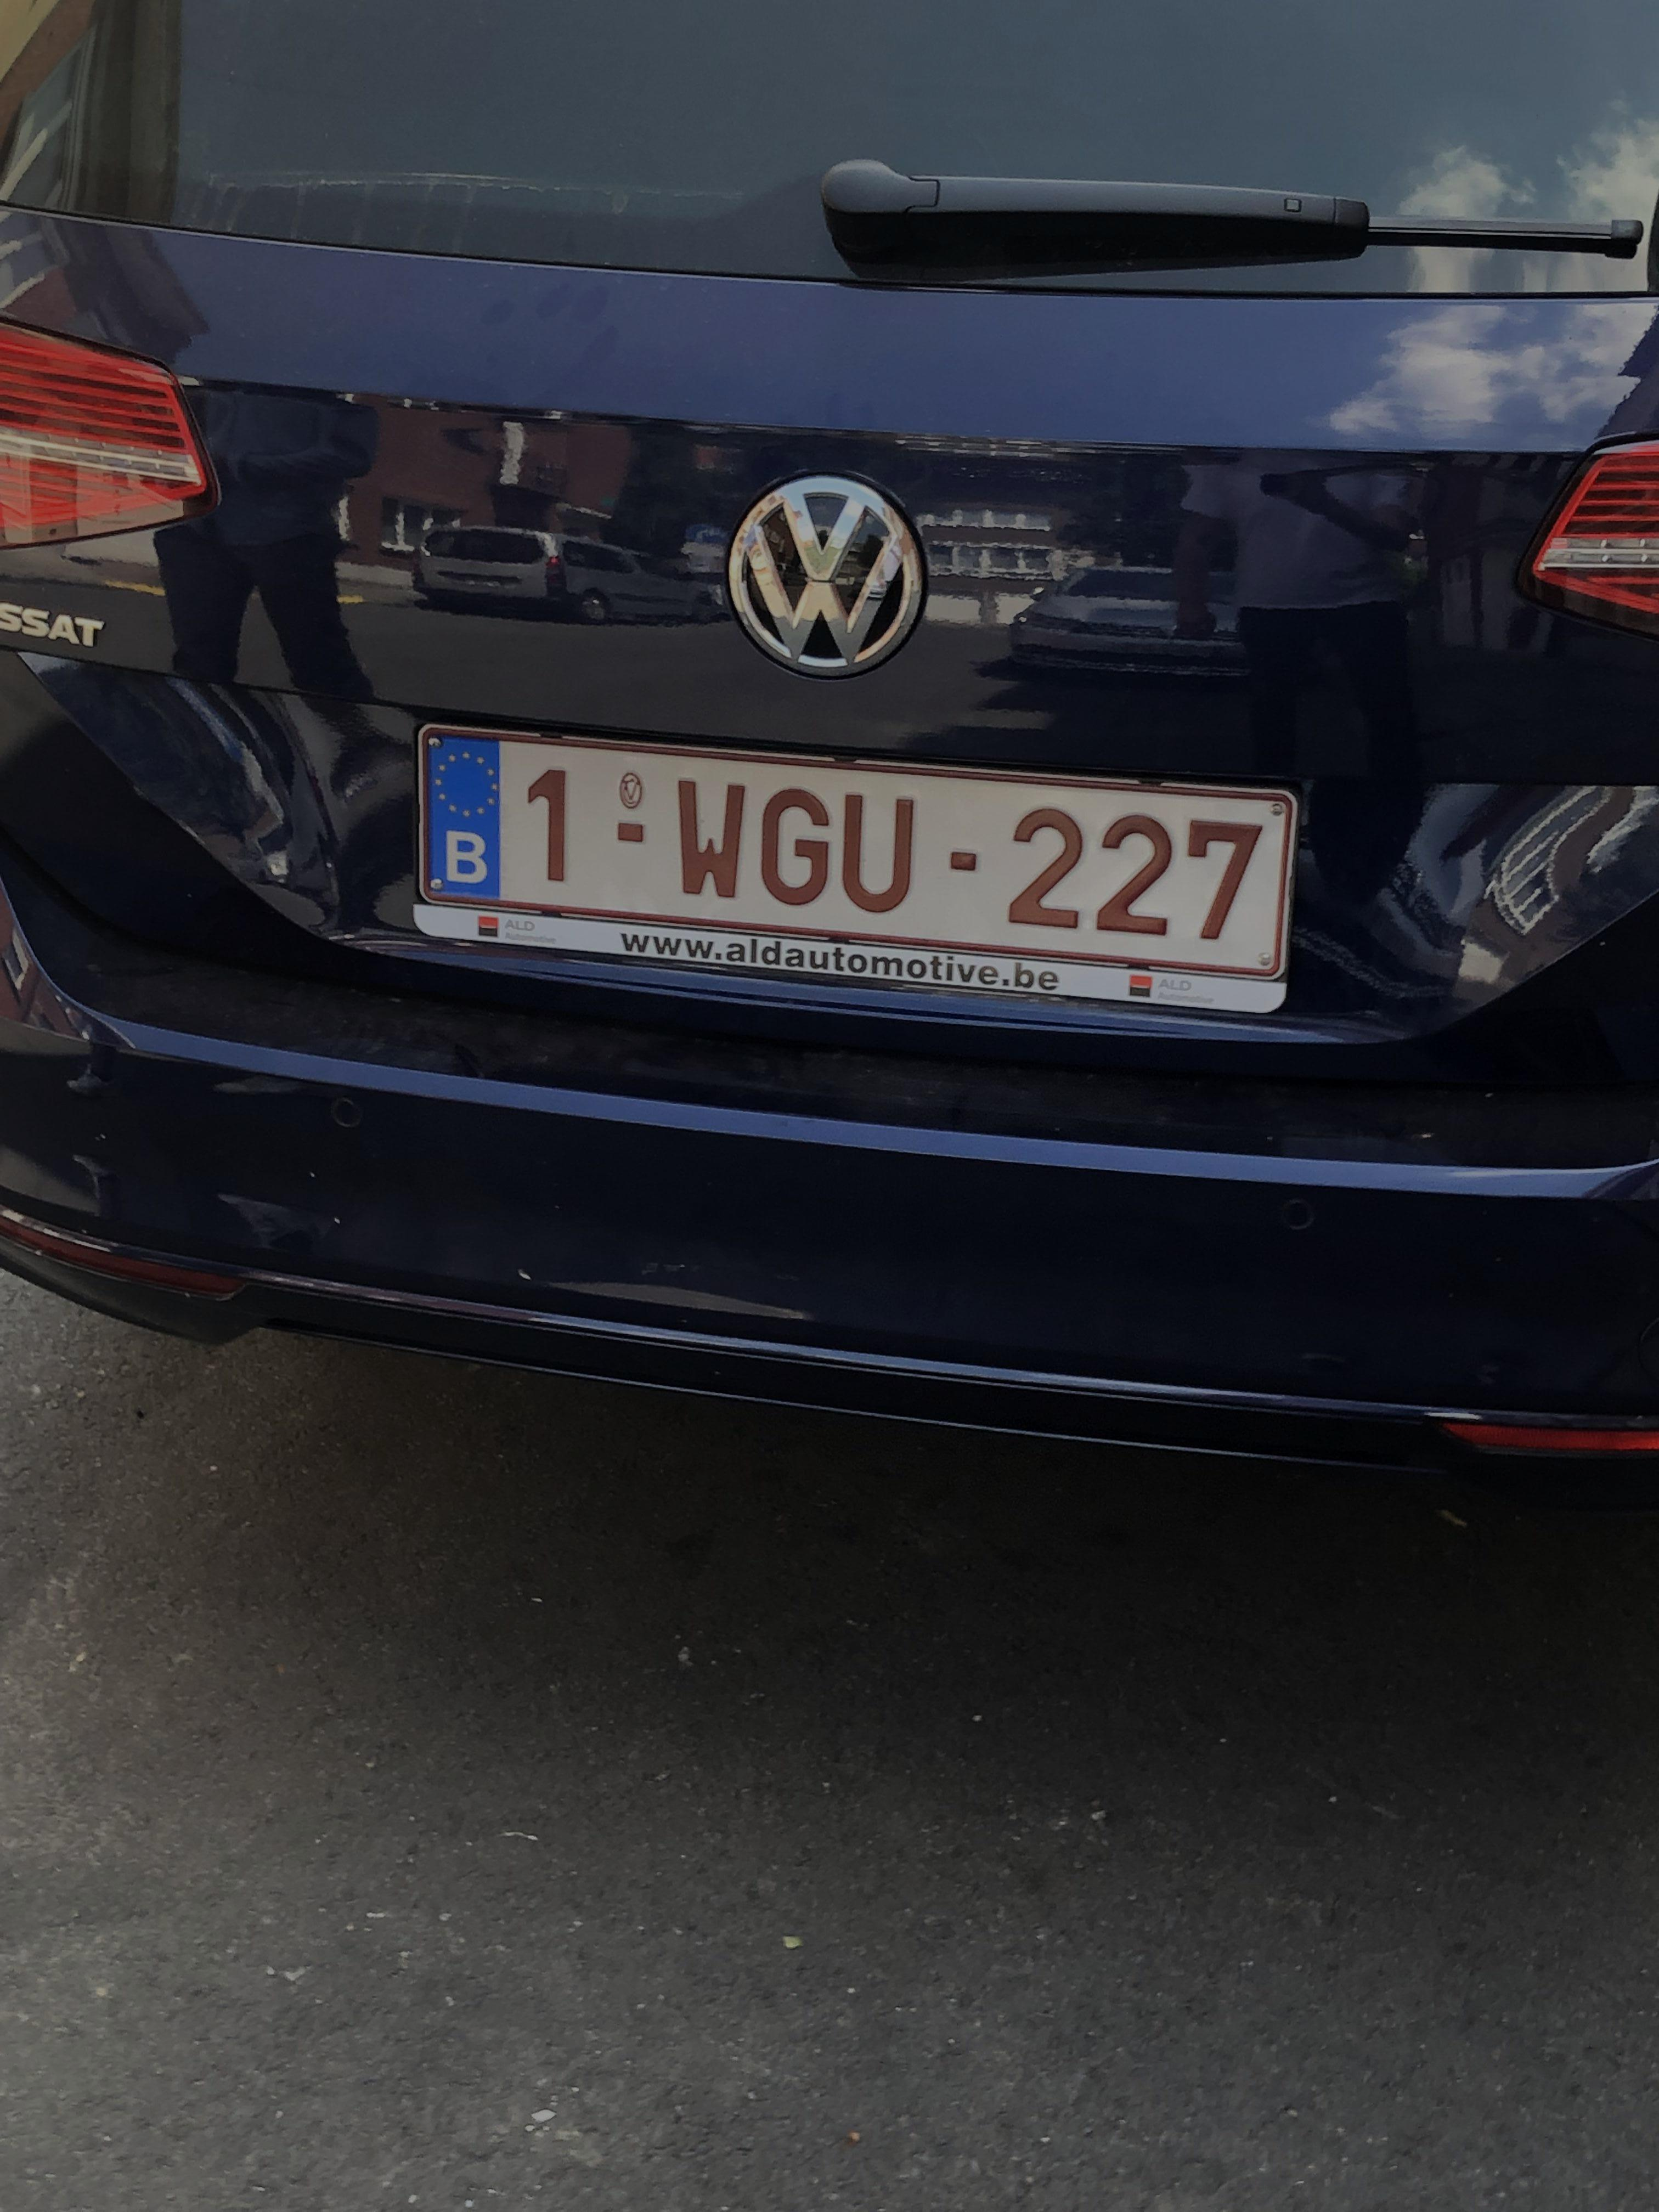plate: (373, 714, 1315, 965)
